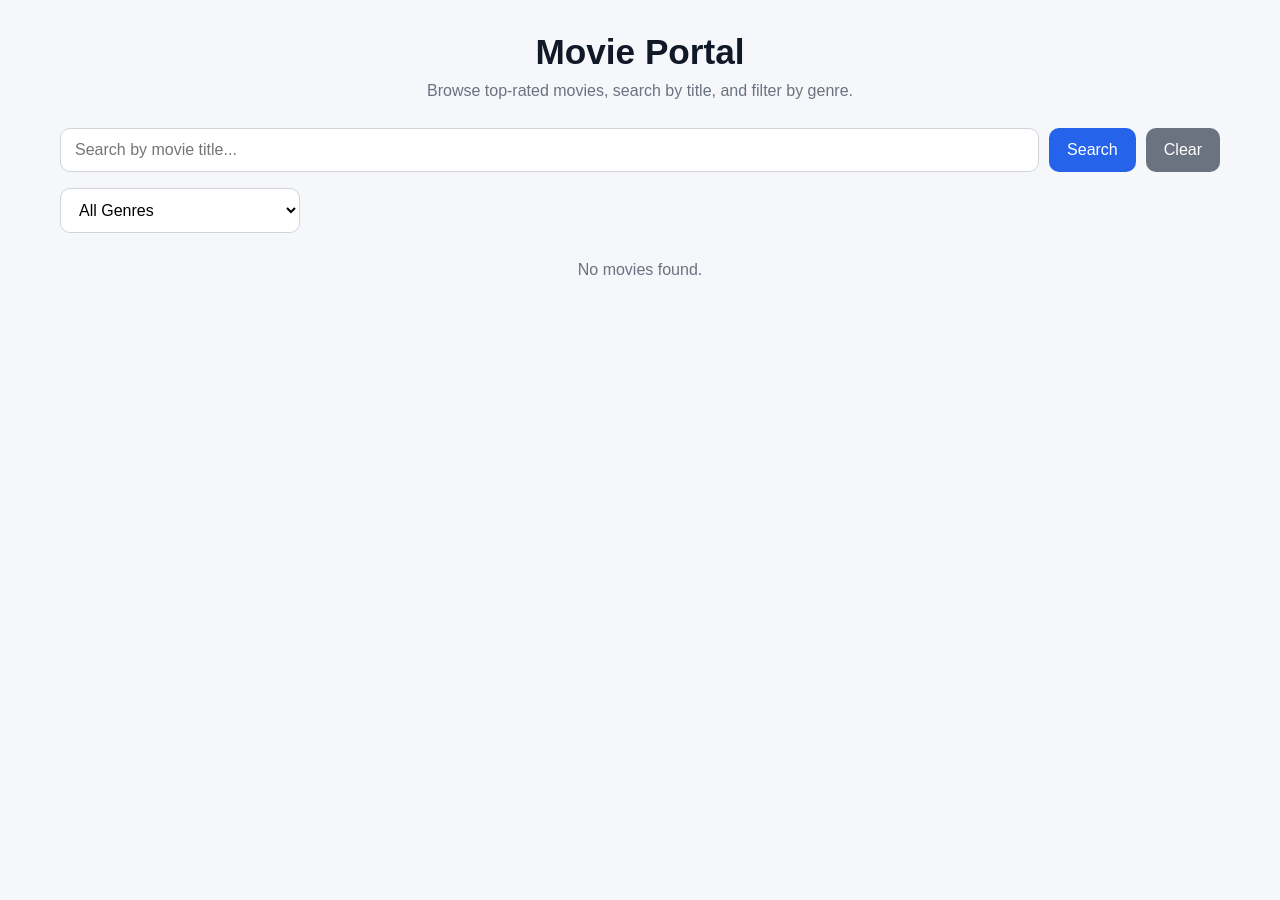
Test: HomePage › searches movies when user submits a search
This screenshot has width=1280, height=900.
In the field with placeholder "Search by movie title...": (550, 150) 60,128 -> 1039,172, type "Batman"
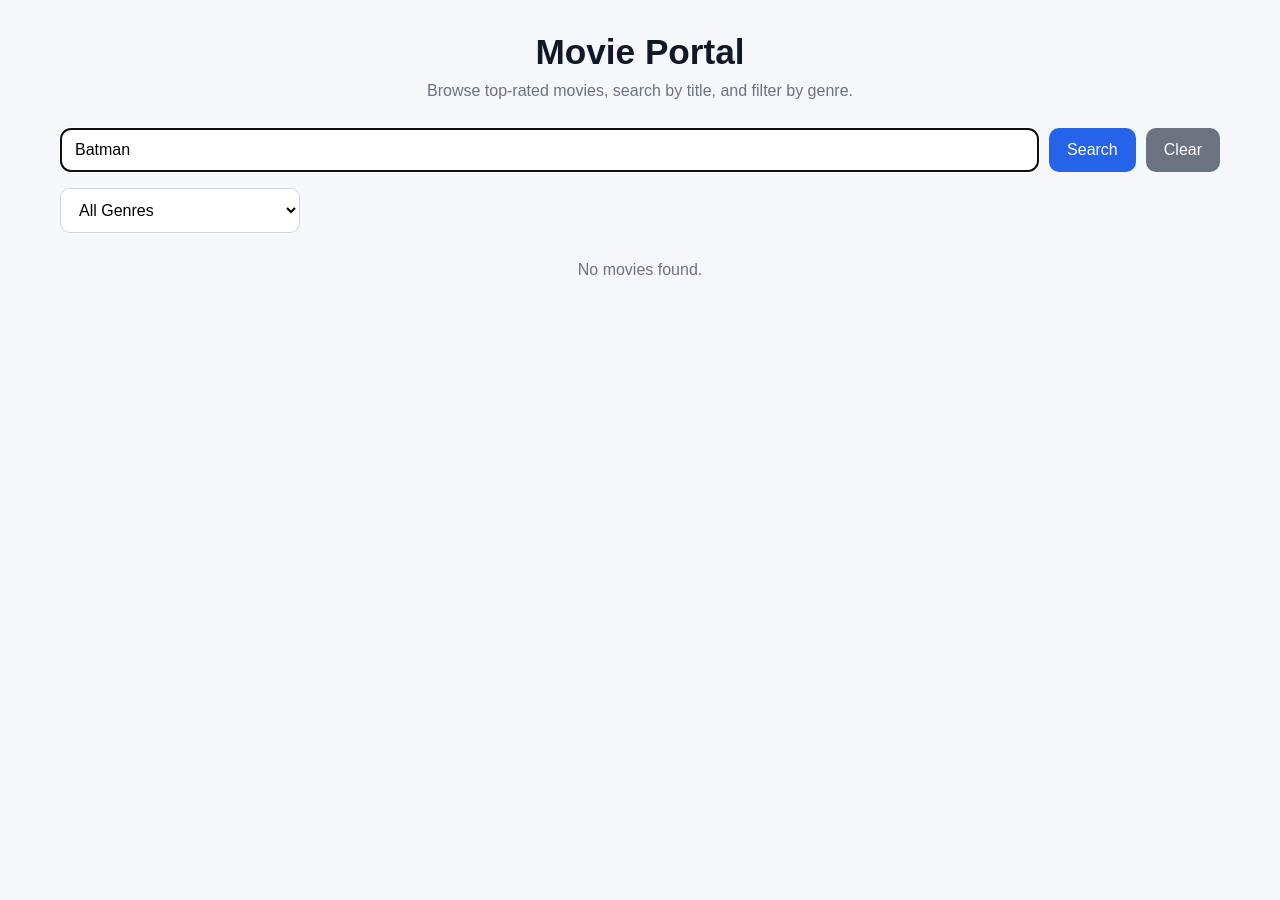
Click the button "Search": (1092, 150) 1049,128 -> 1136,172
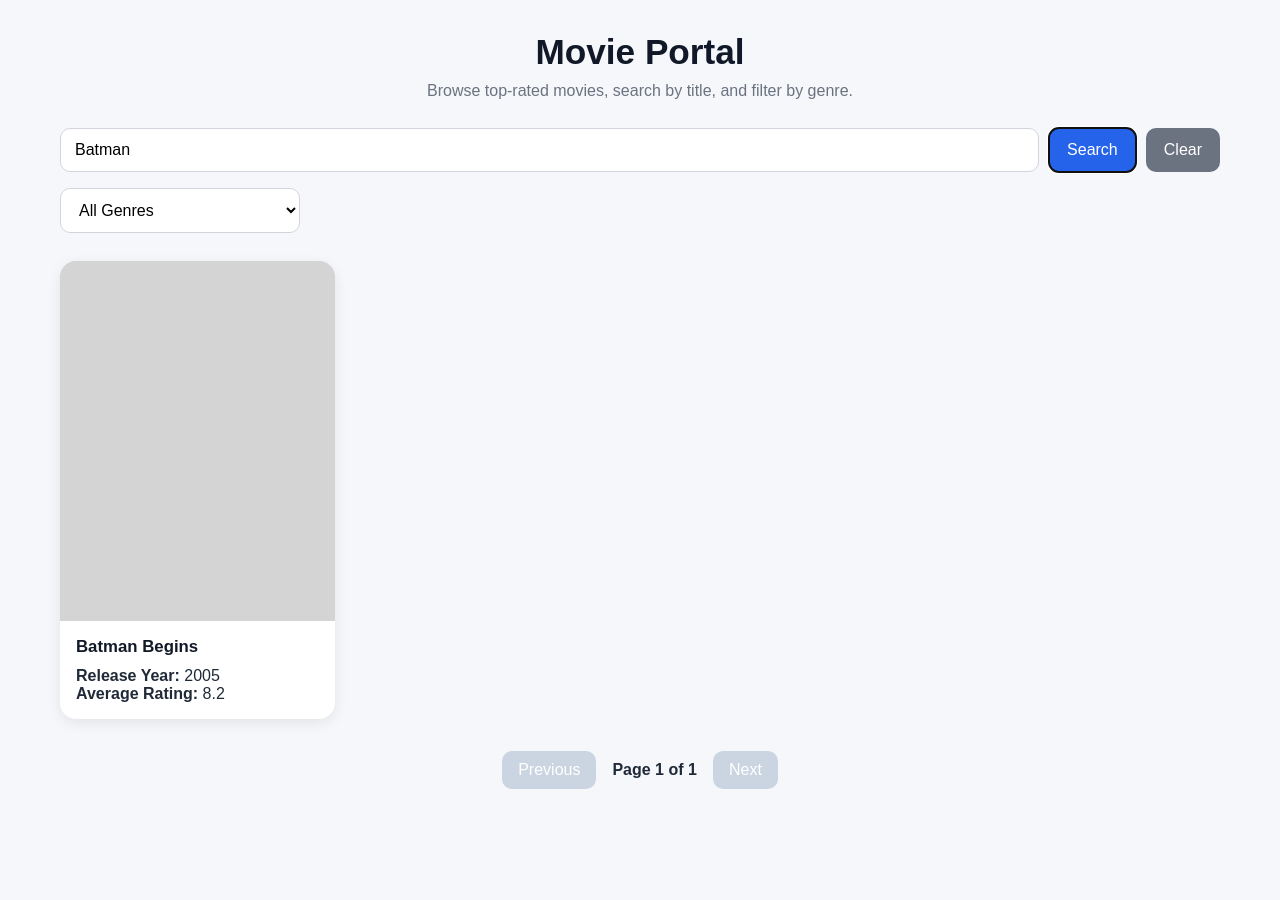
Expected: the heading "Batman Begins" is shown, 76,637 -> 198,656
